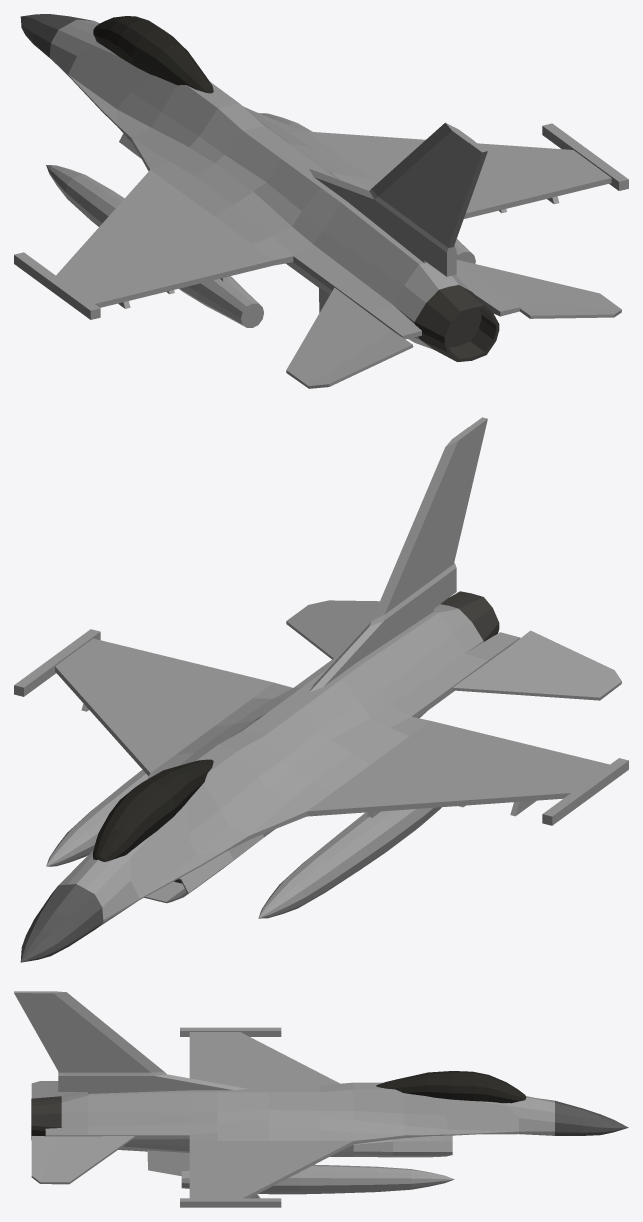
The model's file is Falcon.glb.
3 renders of one model, top to bottom at view 1: azimuth 30°, elevation 25°; view 2: azimuth 150°, elevation 25°; view 3: azimuth 270°, elevation 25°, orthographic. The views are drawn at different scales.
Parts seen in each view (by area): view 1: Airframe, Elevator, Cannopy, LeftFlap, Rudder, RightFlap; view 2: Airframe, Elevator, Cannopy, Rudder, LeftFlap, RightFlap; view 3: Airframe, Elevator, Cannopy, Rudder, RightFlap, LeftFlap.
Part boxes in pixels (left/top/right/bottom): Airframe: left=14, top=14, right=628, bottom=361; Elevator: left=286, top=259, right=621, bottom=388; Cannopy: left=93, top=16, right=213, bottom=93; LeftFlap: left=134, top=245, right=273, bottom=296; Rudder: left=426, top=141, right=487, bottom=247; RightFlap: left=464, top=182, right=560, bottom=218; Airframe: left=14, top=427, right=628, bottom=962; Elevator: left=286, top=600, right=621, bottom=700; Cannopy: left=93, top=759, right=213, bottom=861; Rudder: left=432, top=417, right=487, bottom=579; LeftFlap: left=410, top=721, right=559, bottom=760; RightFlap: left=134, top=651, right=273, bottom=697; Airframe: left=31, top=991, right=628, bottom=1207; Elevator: left=31, top=1081, right=134, bottom=1184; Cannopy: left=376, top=1071, right=526, bottom=1103; Rudder: left=14, top=991, right=87, bottom=1072; RightFlap: left=189, top=1141, right=217, bottom=1182; LeftFlap: left=189, top=1048, right=214, bottom=1082.
Size of the model in its own units: 10.5 by 4.94 by 15.69.
6 materials, 6 textured.
